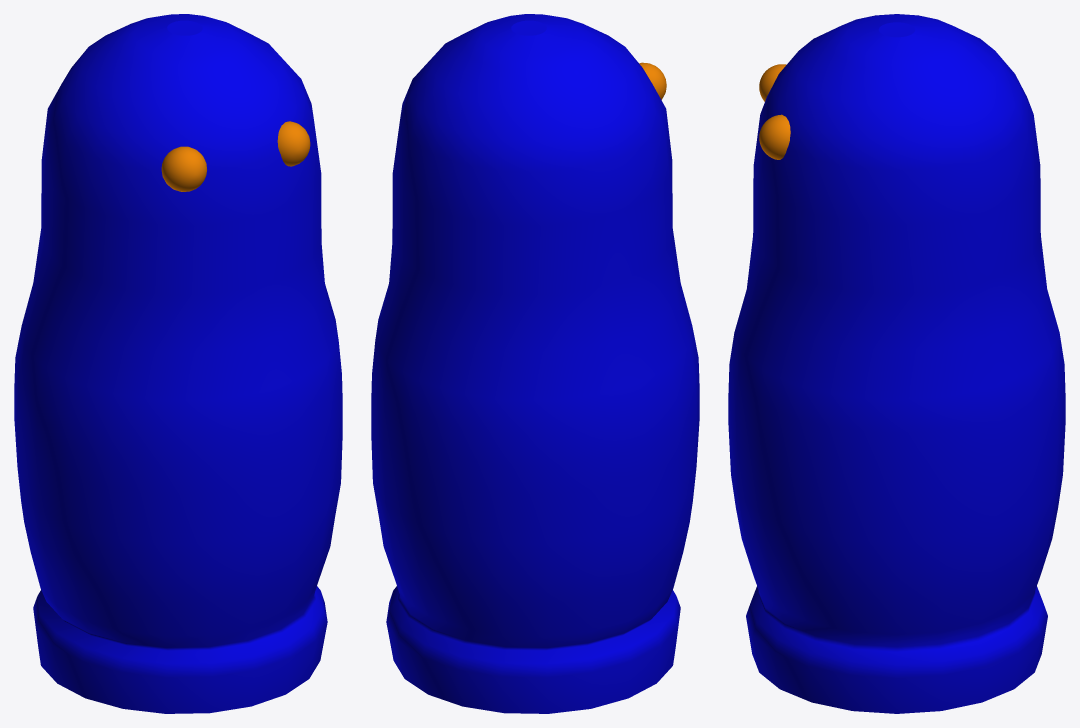
File: person6.fbx
3 views of the same model, side by side, from view 1: azimuth 30°, elevation 25°; view 2: azimuth 150°, elevation 25°; view 3: azimuth 270°, elevation 25° (orthographic).
Visible parts, largest first — view 1: person6; view 2: person6; view 3: person6.
Part boxes in pixels (x1=…): person6: x1=14, y1=14, x2=342, y2=713; person6: x1=371, y1=14, x2=699, y2=713; person6: x1=728, y1=14, x2=1065, y2=713.
Bounding box in the file's own units: 4.1 × 8.61 × 4.2.
